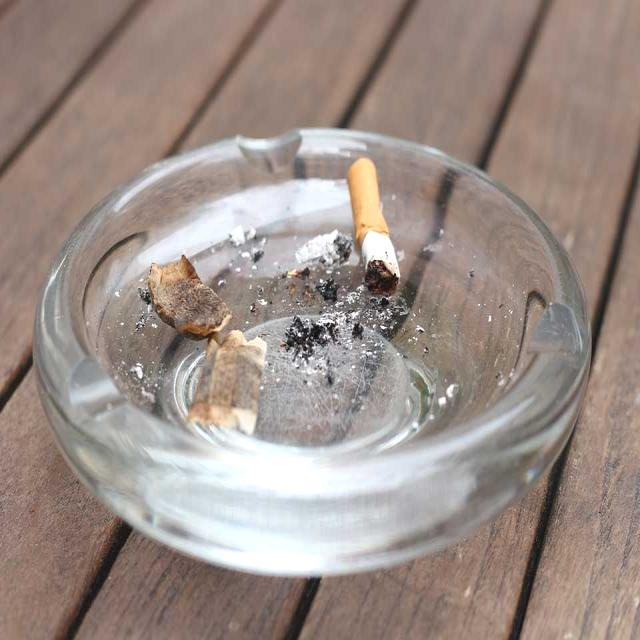Smooking: (342, 149, 418, 307)
